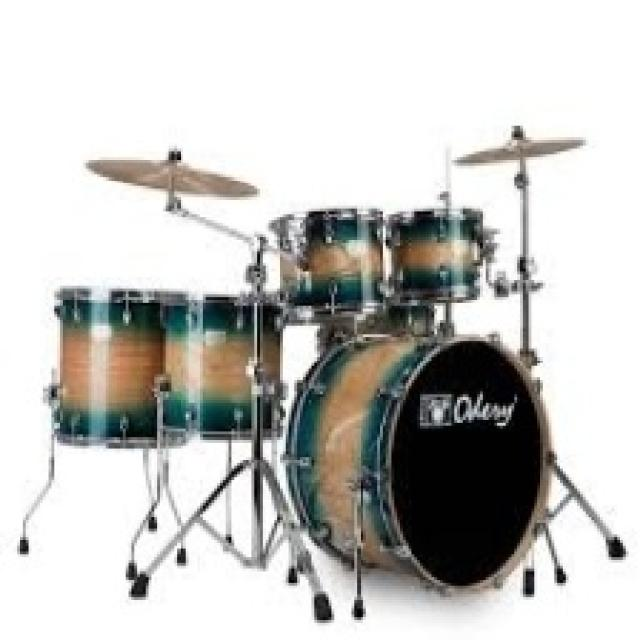drums: (19, 122, 632, 622)
